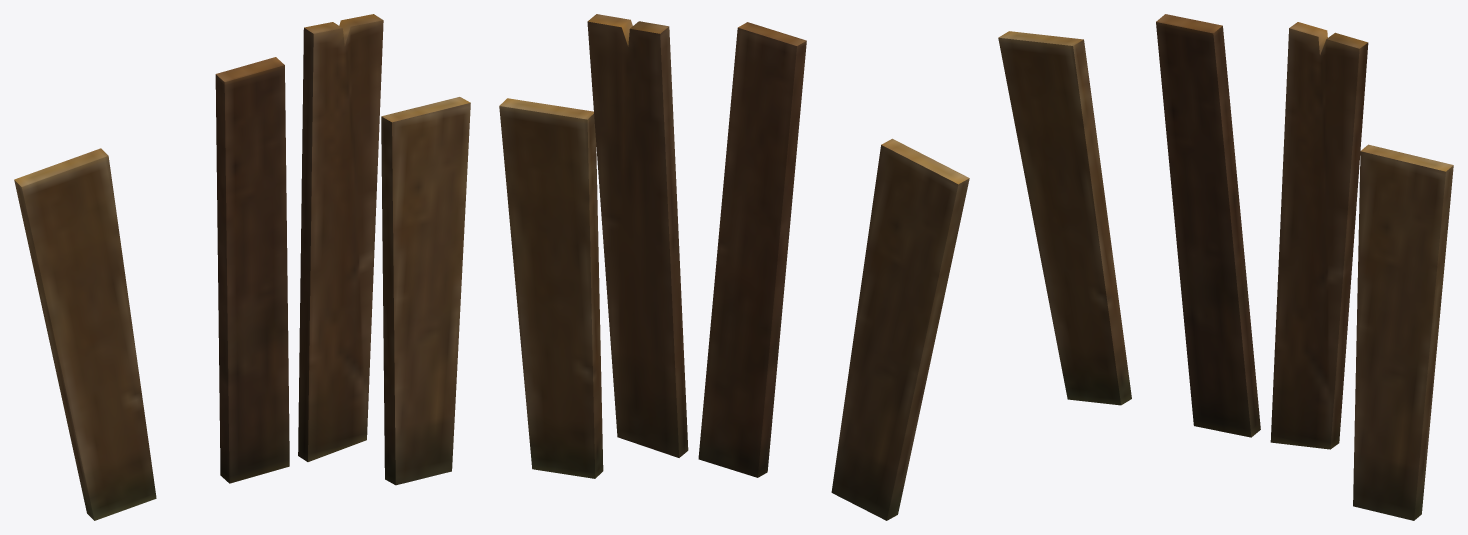
File: Fence_elements2.fbx
3 renders of one model, left to right at view 1: azimuth 30°, elevation 25°; view 2: azimuth 150°, elevation 25°; view 3: azimuth 330°, elevation 25°, orthographic. The views are drawn at different scales.
Parts seen in each view (by area): view 1: Fence_elements2; view 2: Fence_elements2; view 3: Fence_elements2.
Boxes of the visible parts, box(x1,y1,x2,y2) form: Fence_elements2: box(14, 14, 470, 520); Fence_elements2: box(499, 14, 969, 520); Fence_elements2: box(998, 14, 1453, 520).
Size of the model in its own units: 138 by 136 by 18.47.
1 material, 1 textured.
